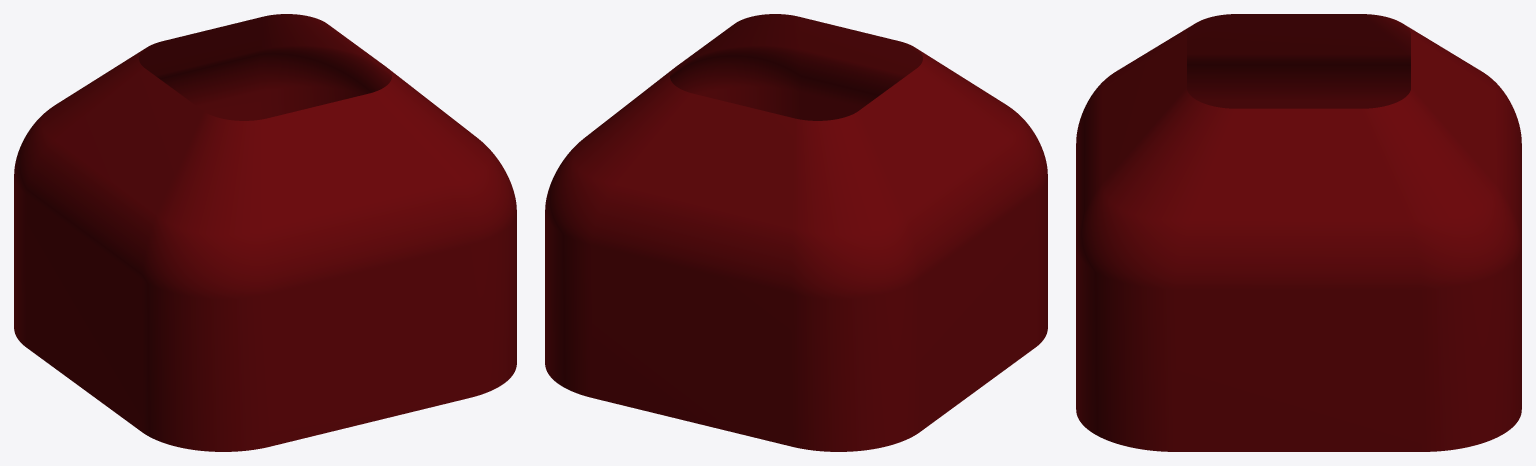
The model's file is Room2.glb.
The picture shows the model from 3 angles, left to right: view 1: azimuth 30°, elevation 25°; view 2: azimuth 150°, elevation 25°; view 3: azimuth 270°, elevation 25°; orthographic projection. The views are drawn at different scales.
Visible parts, largest first — view 1: walls; view 2: walls; view 3: walls.
Part boxes in pixels (box(x1,y1,x2,y2)): walls: box(14, 14, 516, 451); walls: box(545, 14, 1047, 451); walls: box(1076, 14, 1521, 451).
Size of the model in its own units: 68.54 by 50.36 by 68.54.
